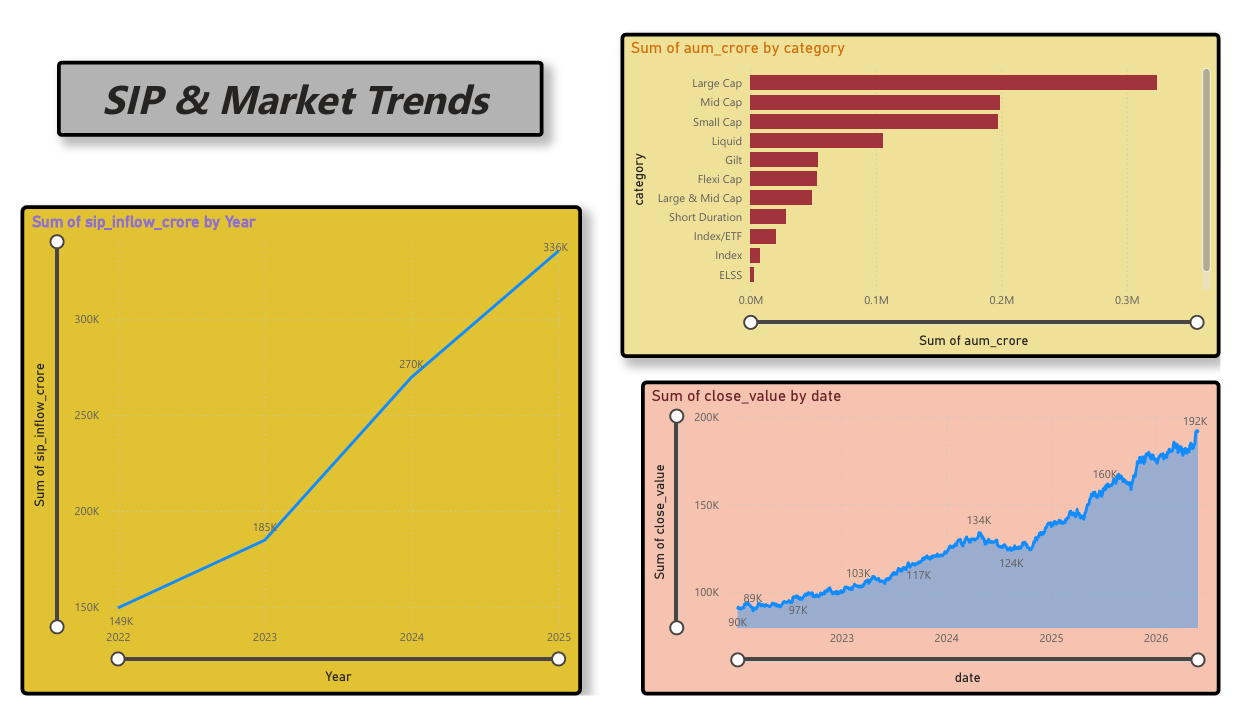

What the dashboard file says about the page in this screenshot:
{"tool":"powerbi","page":{"name":"SIP & Market Trends","canvas":[1280,720],"ordinal":3},"visuals":[{"type":"lineChart","fields":{"Category":["04_monthly_sip_inflows.month.Variation.Date Hierarchy.Year","04_monthly_sip_inflows.month.Variation.Date Hierarchy.Quarter","04_monthly_sip_inflows.month.Variation.Date Hierarchy.Month","04_monthly_sip_inflows.month.Variation.Date Hierarchy.Day"],"Y":["Sum(04_monthly_sip_inflows.sip_inflow_crore)"]},"box":[0,196.9,599.2,523.4],"z":0},{"type":"lineChart","fields":{"Category":["10_benchmark_indices.date"],"Y":["Sum(10_benchmark_indices.close_value)"]},"box":[661.6,384,618.8,336.3],"z":1000},{"type":"clusteredBarChart","fields":{"Category":["07_scheme_performance.category"],"Y":["Sum(07_scheme_performance.aum_crore)"]},"box":[639.5,13.5,640.8,346.1],"z":2000},{"type":"textbox","box":[39.1,42.8,518.5,80.7],"z":3000}]}

Visuals, with their boxes in screenshot pixels (x1, y1, x2, y2), scaled from the page's 1280x720 canvas onto the 1240x713 screenshot:
lineChart - 04_monthly_sip_inflows.month.Variation.Date Hierarchy.Year x 04_monthly_sip_inflows.month.Variation.Date Hierarchy.Quarter: region(0, 195, 580, 712)
lineChart - 10_benchmark_indices.date x Sum(10_benchmark_indices.close_value): region(641, 380, 1239, 712)
clusteredBarChart - 07_scheme_performance.category x Sum(07_scheme_performance.aum_crore): region(620, 13, 1239, 356)
textbox: region(38, 42, 540, 122)
